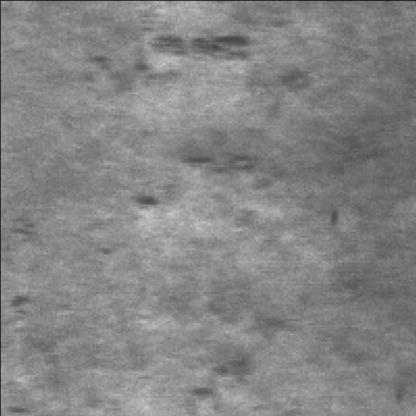rolled-in_scale: (135, 23, 277, 218), (93, 31, 322, 111), (189, 310, 300, 404)
